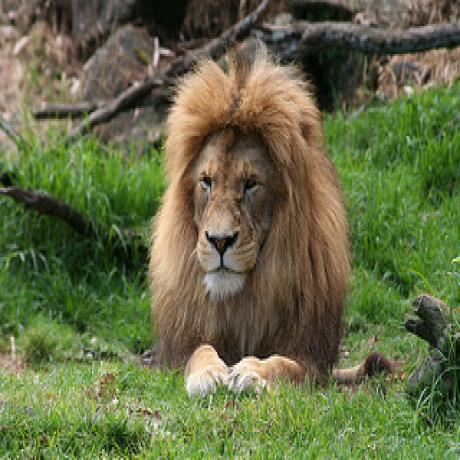Lion: (146, 50, 352, 400)
